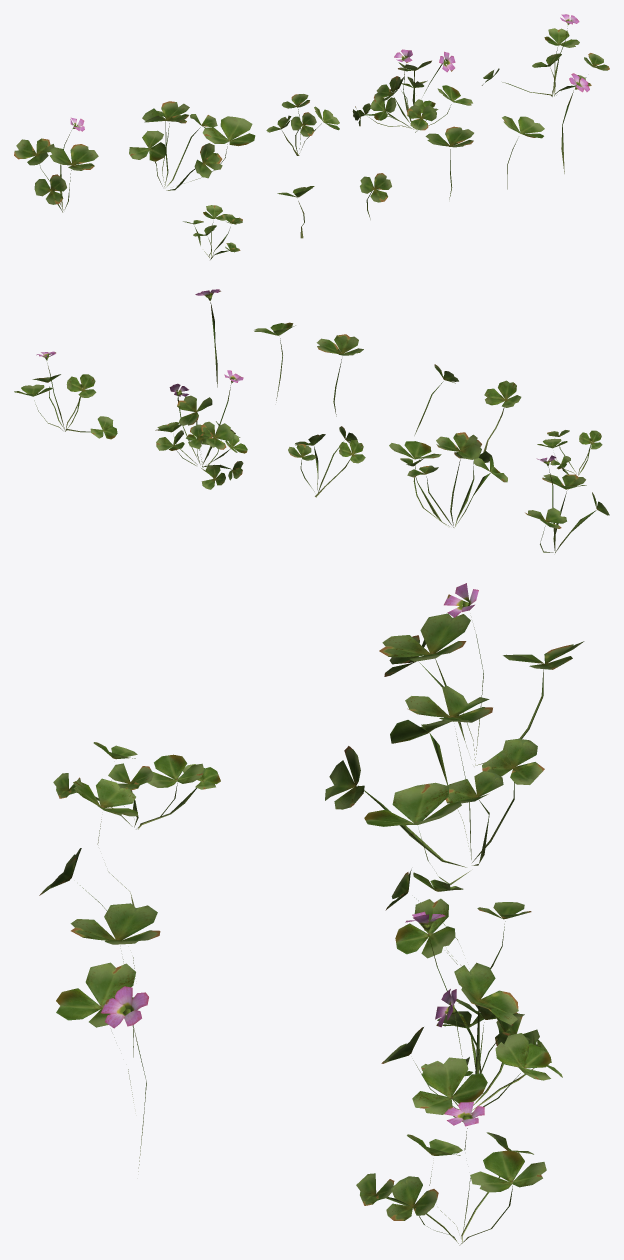
File: shrub_sorrel_01_web.glb
The picture shows the model from 3 angles, top to bottom: view 1: azimuth 30°, elevation 25°; view 2: azimuth 150°, elevation 25°; view 3: azimuth 270°, elevation 25°; orthographic projection. The views are drawn at different scales.
Parts seen in each view (by area): view 1: shrub_sorrel_01_b, shrub_sorrel_01_d, shrub_sorrel_01_a, shrub_sorrel_01_e, shrub_sorrel_01_c, shrub_sorrel_01_f, shrub_sorrel_01_i, shrub_sorrel_01_h, shrub_sorrel_01_j, shrub_sorrel_01_k; view 2: shrub_sorrel_01_d, shrub_sorrel_01_b, shrub_sorrel_01_e, shrub_sorrel_01_a, shrub_sorrel_01_c, shrub_sorrel_01_f, shrub_sorrel_01_i, shrub_sorrel_01_g; view 3: shrub_sorrel_01_b, shrub_sorrel_01_d, shrub_sorrel_01_e, shrub_sorrel_01_a, shrub_sorrel_01_f, shrub_sorrel_01_c, shrub_sorrel_01_j, shrub_sorrel_01_i, shrub_sorrel_01_k, shrub_sorrel_01_g.
Part boxes in pixels (x1,y1,x2,y2): shrub_sorrel_01_b: [129, 101, 255, 190]; shrub_sorrel_01_d: [352, 49, 472, 132]; shrub_sorrel_01_a: [14, 117, 98, 212]; shrub_sorrel_01_e: [482, 14, 609, 96]; shrub_sorrel_01_c: [266, 94, 339, 155]; shrub_sorrel_01_f: [183, 205, 242, 259]; shrub_sorrel_01_i: [425, 126, 473, 199]; shrub_sorrel_01_h: [360, 173, 391, 219]; shrub_sorrel_01_j: [502, 116, 544, 189]; shrub_sorrel_01_k: [561, 73, 589, 173]; shrub_sorrel_01_d: [155, 370, 247, 489]; shrub_sorrel_01_b: [389, 432, 507, 527]; shrub_sorrel_01_e: [14, 351, 117, 439]; shrub_sorrel_01_a: [525, 455, 609, 552]; shrub_sorrel_01_c: [288, 426, 365, 497]; shrub_sorrel_01_f: [537, 430, 602, 475]; shrub_sorrel_01_i: [316, 334, 363, 416]; shrub_sorrel_01_g: [483, 380, 521, 452]; shrub_sorrel_01_b: [325, 686, 544, 885]; shrub_sorrel_01_d: [381, 911, 562, 1117]; shrub_sorrel_01_e: [356, 1102, 546, 1245]; shrub_sorrel_01_a: [379, 583, 584, 765]; shrub_sorrel_01_f: [53, 742, 220, 829]; shrub_sorrel_01_c: [385, 869, 531, 969]; shrub_sorrel_01_j: [56, 962, 135, 1102]; shrub_sorrel_01_i: [70, 903, 160, 1057]; shrub_sorrel_01_k: [101, 986, 148, 1171]; shrub_sorrel_01_g: [73, 778, 137, 906].
Bounding box in the file's own units: 0.3521 × 0.058 × 0.1464.
1 material, 1 textured.
